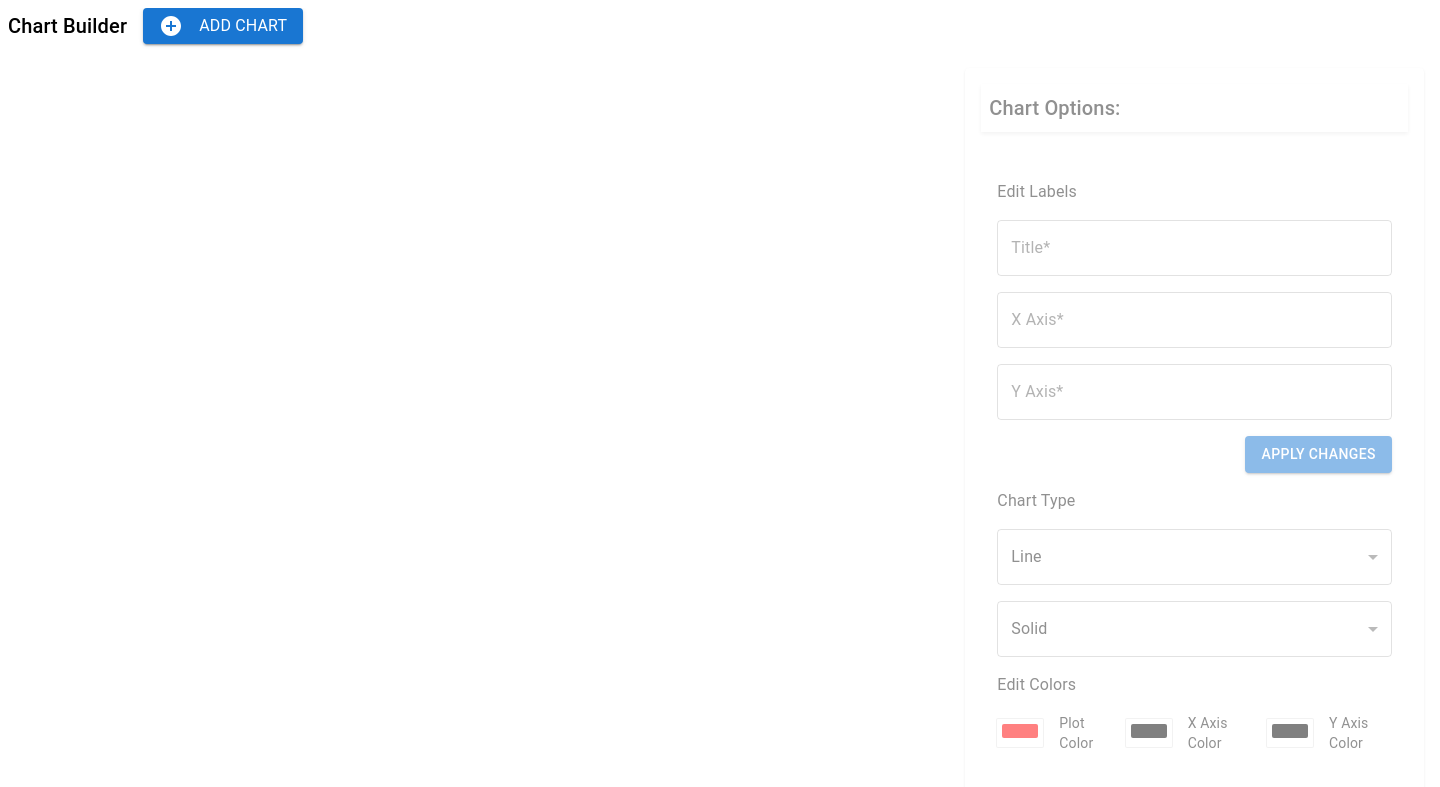
Test case: AddChart › shouldAddChart
Click the button "Add Chart" at (223, 26), box [143,8,303,44]
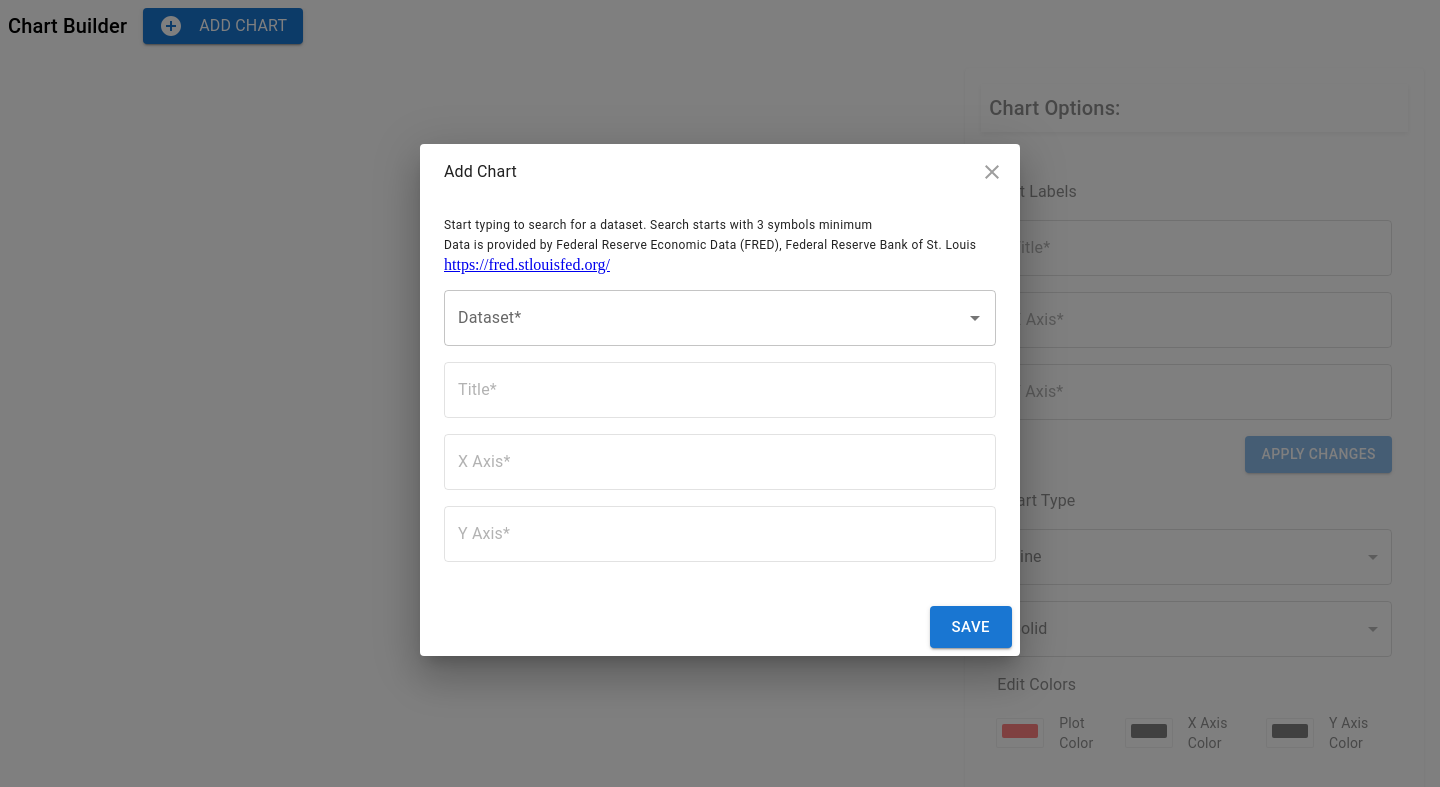
Result: the text "Add Chart" is shown at [444,162,517,181]
Result: the text "Start typing to search for a dataset. Search starts with 3 symbols minimum" is shown at [444,218,872,232]
Result: the text "Data is provided by Federal Reserve Economic Data (FRED), Federal Reserve Bank of St. Louis" is shown at [444,238,976,252]
Click the element with test id "chartAutocomplete" at (720, 318), box [444,290,996,346]
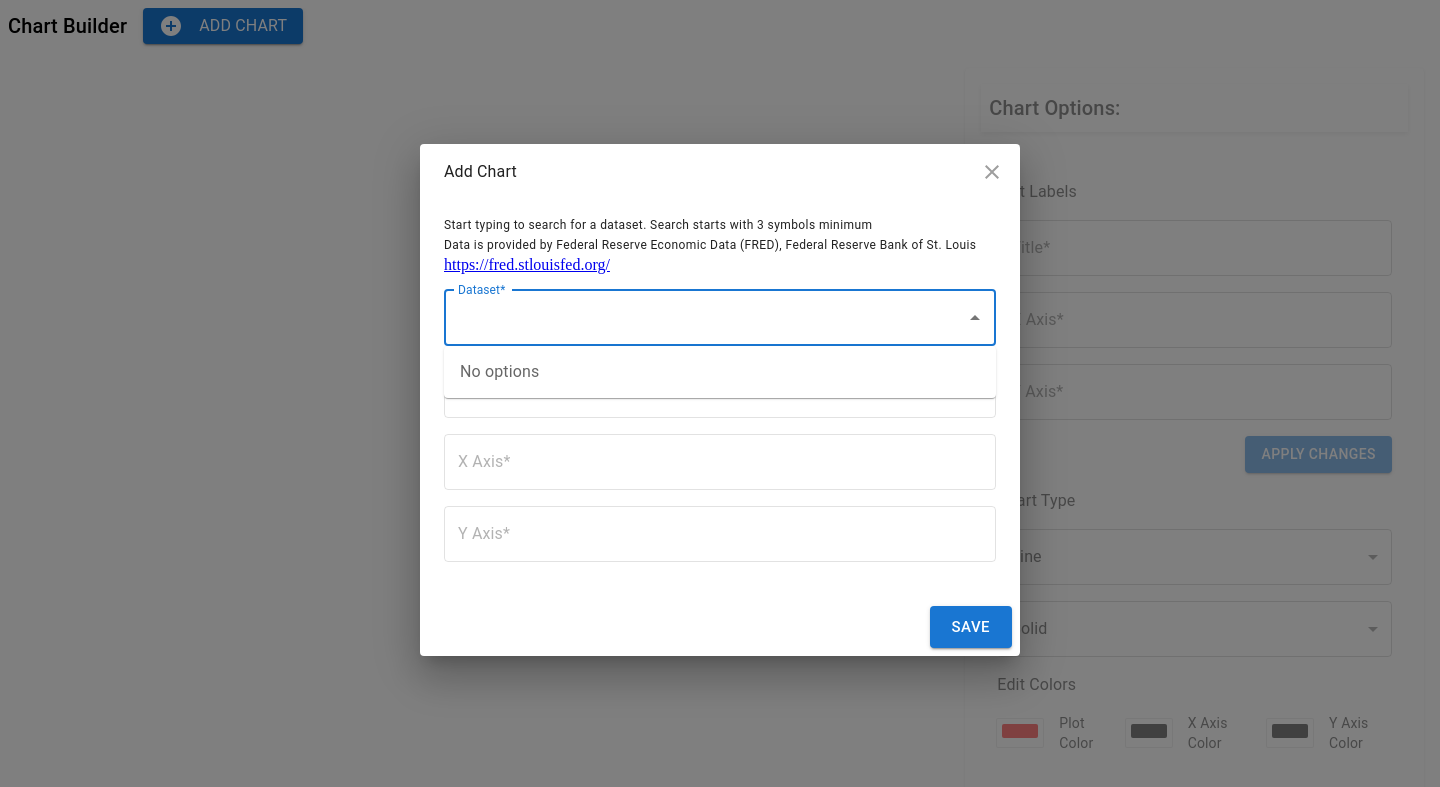
Type "Personal Saving Rate" into the element with test id "chartAutocomplete" at (720, 318), box [444,290,996,346]
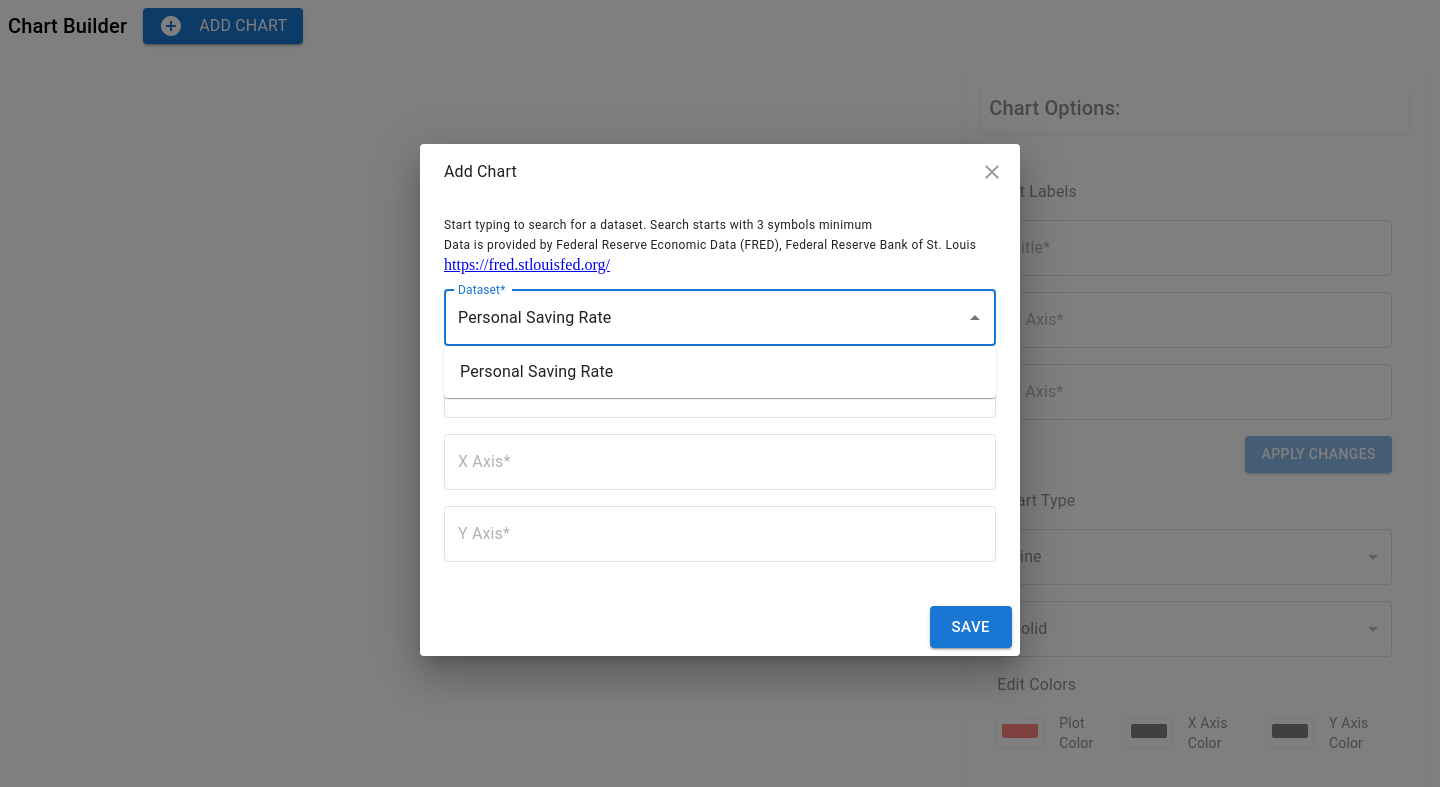
Click the option "Personal Saving Rate" at (537, 372), box [460,362,614,381]
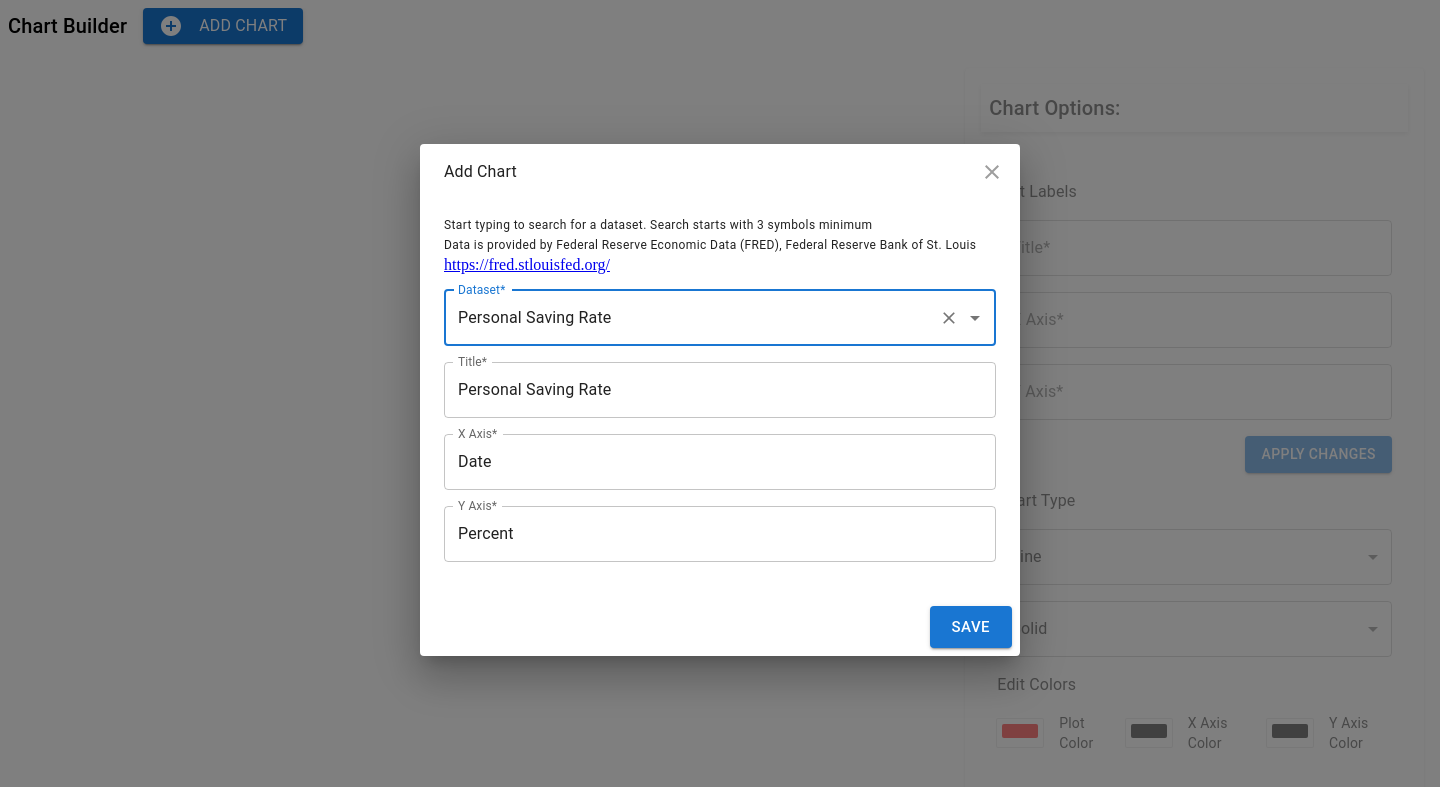
Result: the field labelled "Title*" holds "Personal Saving Rate" at [444,362,996,418]
Result: the field labelled "X Axis*" holds "Date" at [444,434,996,490]
Result: the field labelled "Y Axis*" holds "Percent" at [444,506,996,562]
Click the button "Save" at (971, 627), box [930,606,1012,648]
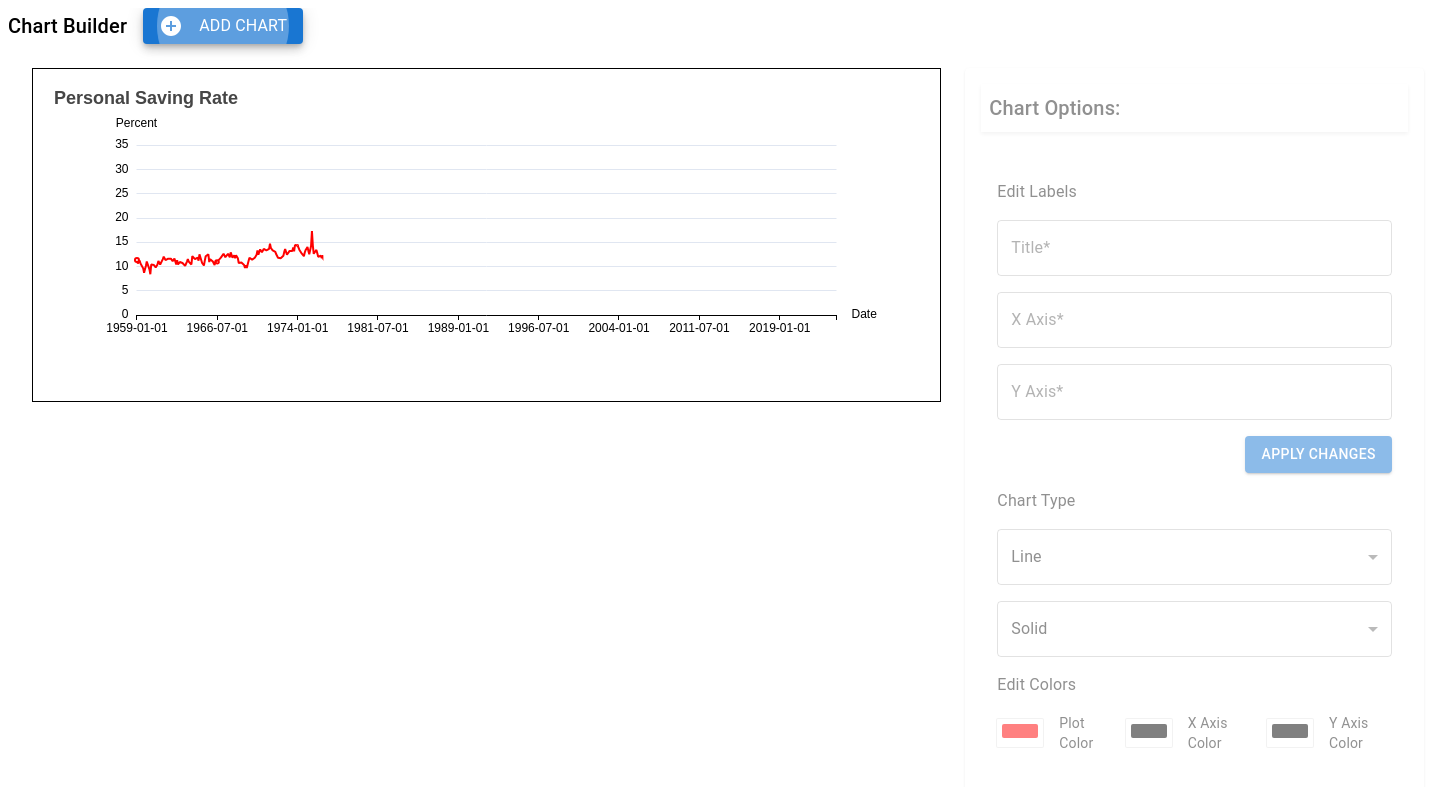
Result: the dialog is gone
